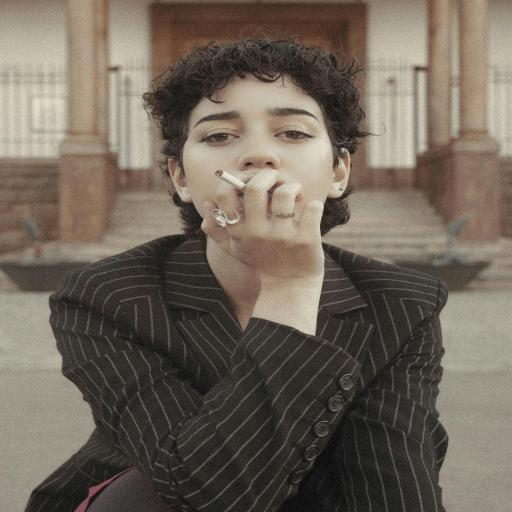terdeteksi merokok: (192, 98, 332, 263)
